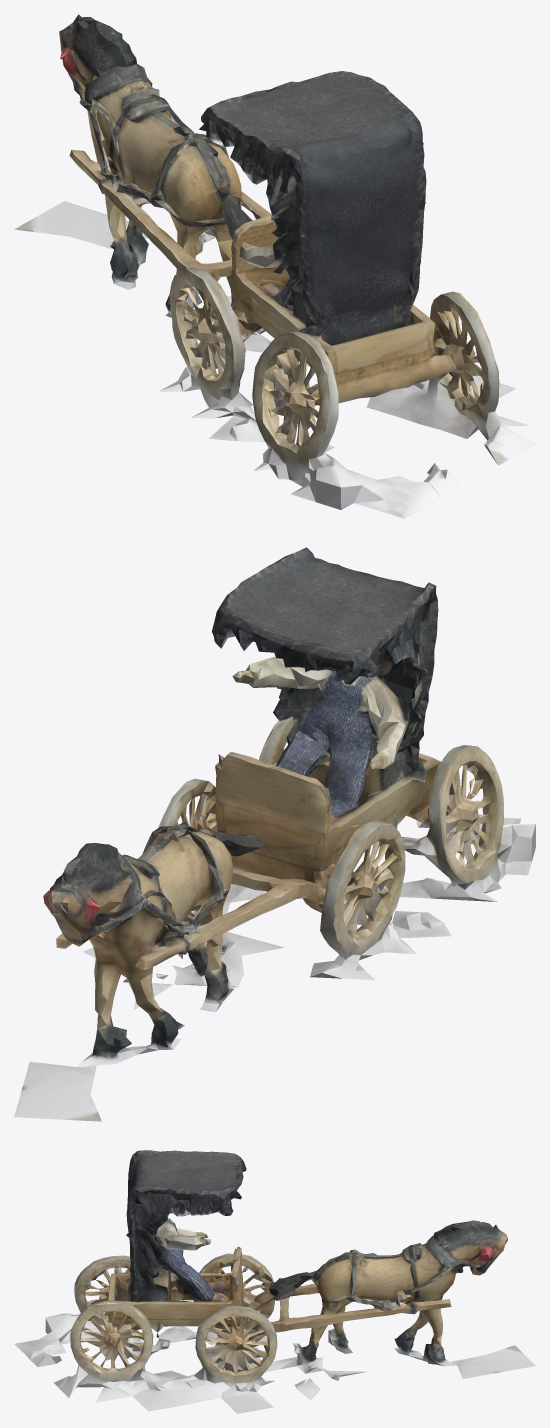
Rendered from mdl_caleche_21.fbx.
3 renders of one model, top to bottom at view 1: azimuth 30°, elevation 25°; view 2: azimuth 150°, elevation 25°; view 3: azimuth 270°, elevation 25°, orthographic. The views are drawn at different scales.
Visible parts, largest first — view 1: mdl_caleche_21; view 2: mdl_caleche_21; view 3: mdl_caleche_21.
Boxes of the visible parts, bbox=[...] form: mdl_caleche_21: bbox=[14, 14, 535, 518]; mdl_caleche_21: bbox=[14, 547, 535, 1121]; mdl_caleche_21: bbox=[14, 1150, 535, 1413].
Bounding box in the file's own units: 5.91 × 5.88 × 14.5.
Materials: 1 (1 with a texture image).
